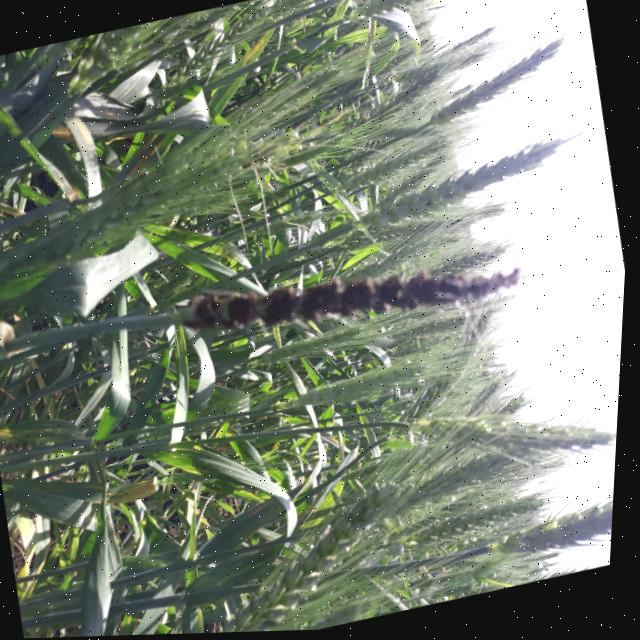loose_charred: (134, 214, 539, 395)
yellow_rust: (0, 402, 94, 470), (8, 509, 72, 606), (81, 469, 173, 529), (105, 124, 178, 198), (43, 85, 110, 165), (294, 473, 354, 547), (0, 162, 41, 243), (229, 22, 281, 72), (79, 368, 124, 424), (16, 348, 55, 411), (320, 422, 358, 474), (243, 498, 288, 540)
